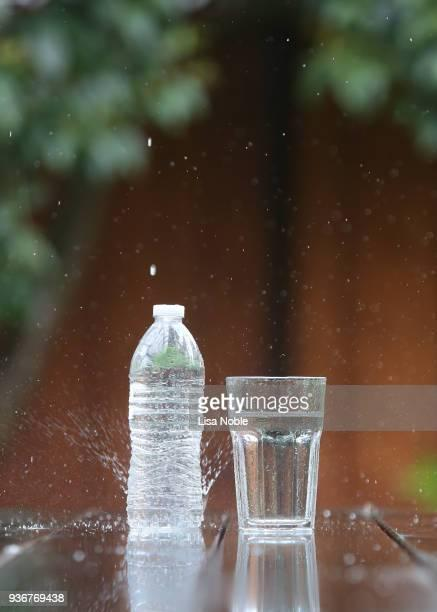bottle: (122, 295, 212, 546)
